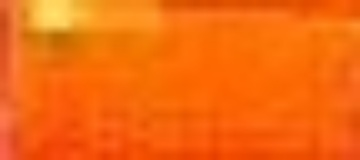Hotspot: (18, 1, 172, 36)
